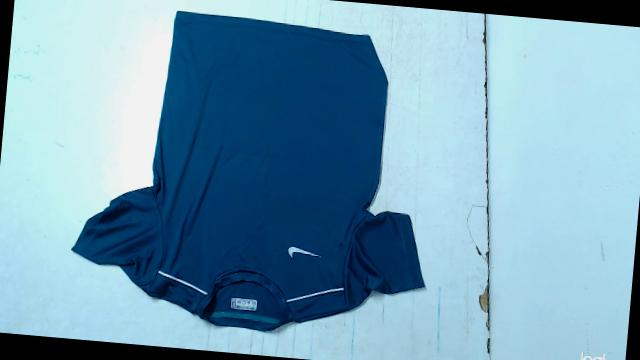new-garment: (72, 11, 423, 331)
